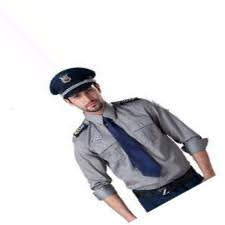uniform: (44, 67, 216, 212)
